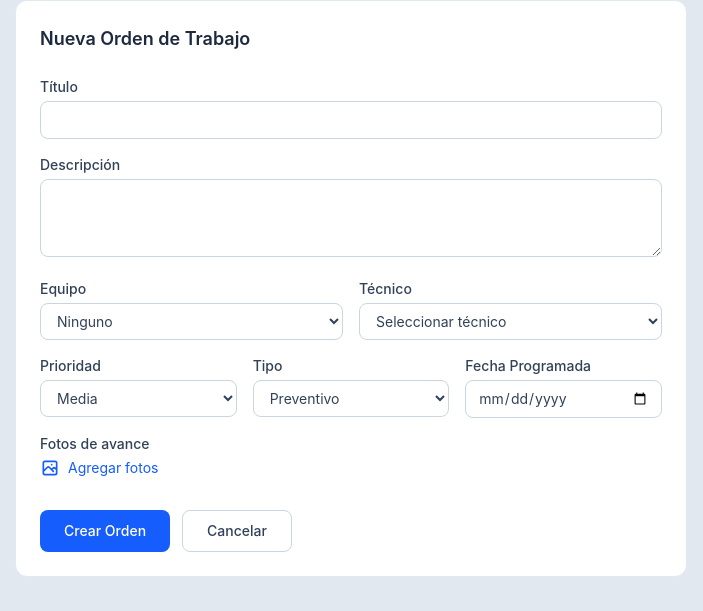
Scenario: WorkOrderForm page › shows error when mutation fails
The image size is (703, 611).
Type "Test" into the field. click: x=351, y=120
box: [40, 101, 662, 139]
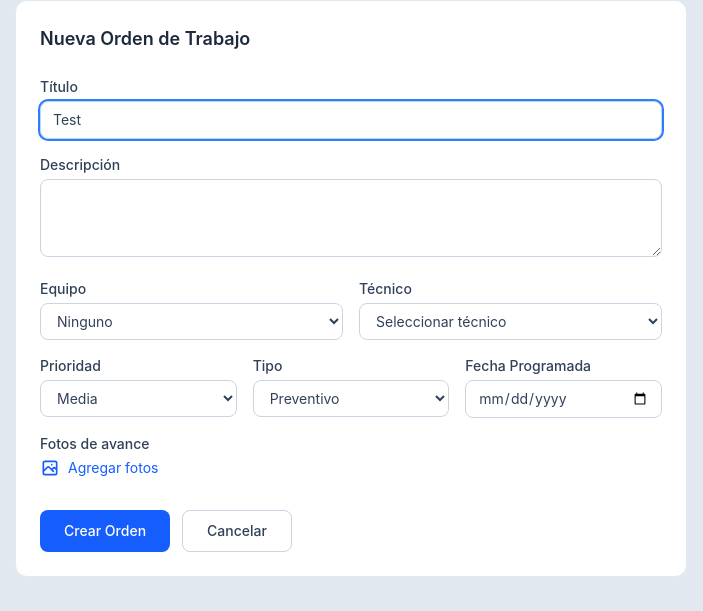
Select "Carlos" in the dropdown below "Técnico". click: x=510, y=322
box: [359, 303, 662, 340]
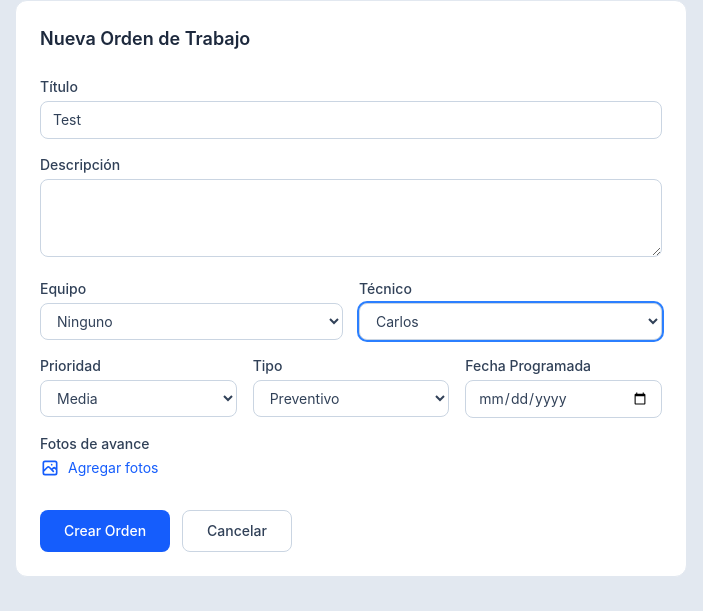
Type "2026-06-15" into the date field. click: x=564, y=399
box: [465, 380, 662, 418]
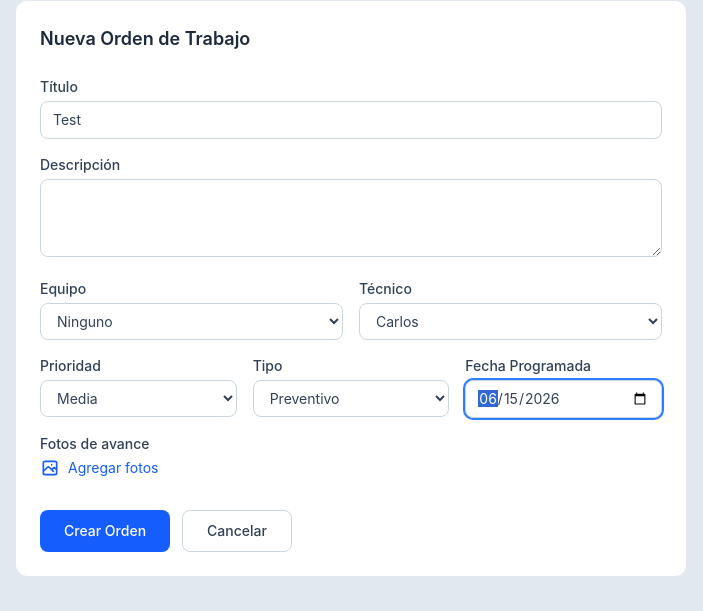
Click the button "Crear Orden". click: x=105, y=531
box: [40, 510, 170, 552]
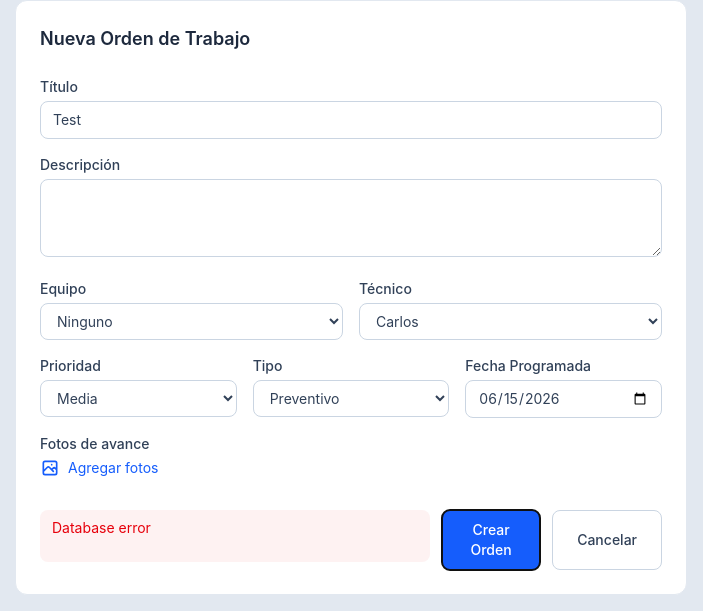
Expected: the text "Database error" is shown, [40, 510, 430, 562]
